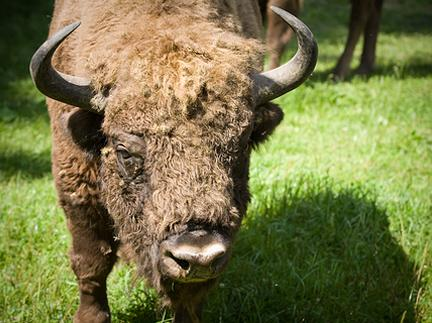zubr: (24, 1, 377, 316)
